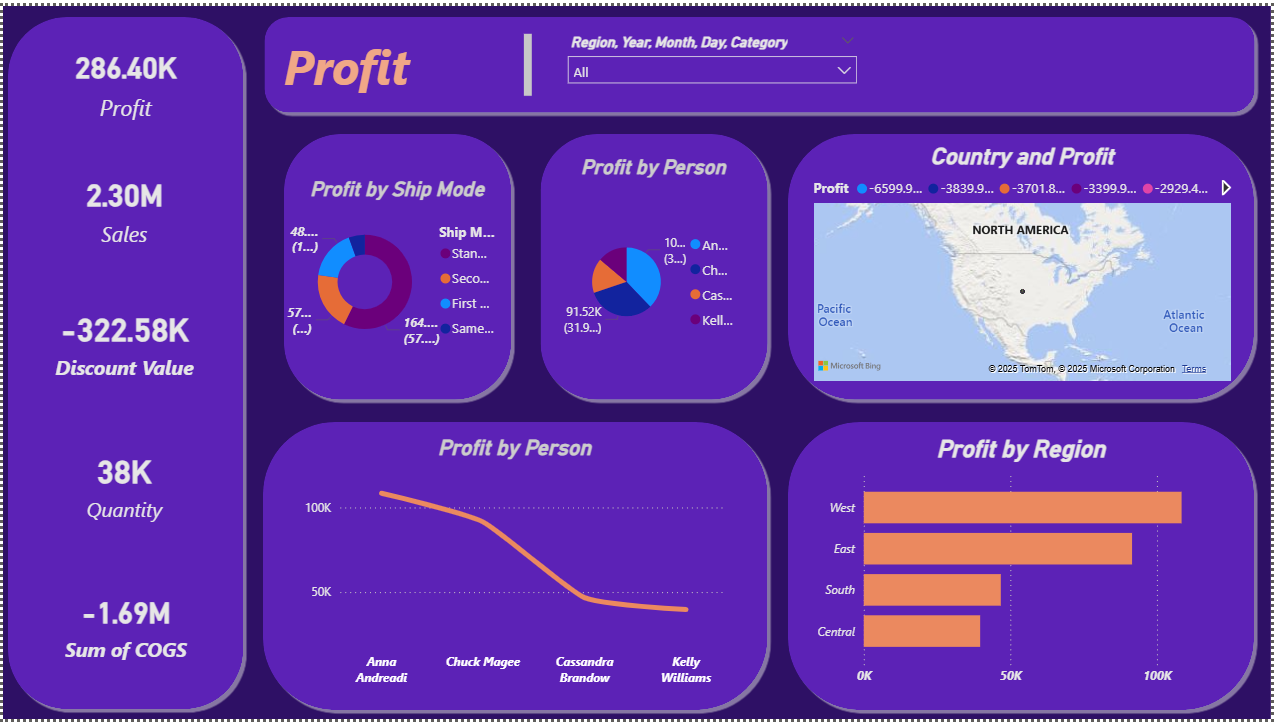

The dashboard page shown, as its layout file describes it:
{"tool":"powerbi","page":{"name":"Page 4","canvas":[1280,720],"ordinal":3},"visuals":[{"type":"shape","box":[0,0,1280.8,720.6],"z":500},{"type":"shape","box":[0,6.5,247.7,709.2],"z":1000},{"type":"shape","box":[259.1,6.5,1010.4,106.9],"z":1001},{"type":"shape","box":[788.6,414.5,480.9,301.2],"z":1002},{"type":"shape","box":[257.5,414.5,519.8,301.2],"z":1003},{"type":"shape","box":[788.6,124.7,480.9,278.5],"z":1004},{"type":"shape","box":[278.5,124.7,239.6,278.5],"z":1005},{"type":"shape","box":[537.6,124.7,239.6,278.5],"z":1006},{"type":"donutChart","title":"Profit by Ship Mode","fields":{"Category":["Orders3.Ship Mode"],"Y":["Orders3.Profit"]},"box":[285,173.3,226.7,187.8],"z":1007},{"type":"pieChart","fields":{"Y":["Orders3.Profit"],"Category":["People2.Person"]},"box":[560.3,150.6,192.7,233.2],"z":1008},{"type":"lineChart","title":"Profit by Person","fields":{"Y":["Orders3.Profit"],"Category":["People2.Person"]},"box":[291.5,434,451.8,260.7],"z":1009},{"type":"clusteredBarChart","title":"Profit by Region","fields":{"Category":["Orders3.Region"],"Y":["Orders3.Profit"]},"box":[812.9,434,432.3,260.7],"z":1010},{"type":"map","fields":{"Category":["Orders3.Country","Orders3.State"],"Series":["Orders3.Profit"]},"box":[813.3,138.3,431.7,245],"z":1011},{"type":"card","fields":{"Values":["Orders3.Profit"]},"box":[3.2,27.5,241.3,97.2],"z":1012},{"type":"card","fields":{"Values":["Orders3.Sales"]},"box":[0,157.1,244.5,90.7],"z":1013},{"type":"card","fields":{"Values":["Orders3.Discount Value"]},"box":[0,293.1,244.5,90.7],"z":1014},{"type":"card","fields":{"Values":["Orders3.Quantity"]},"box":[1.6,434,241.3,95.5],"z":1015},{"type":"card","fields":{"Values":["Orders3.COGS"]},"box":[1.6,565.1,244.5,118.2],"z":1016},{"type":"textbox","box":[278.3,23.3,260,73.3],"z":1017},{"type":"slicer","fields":{"Values":["Orders3.Region","Orders3.Order Date.Variation.Date Hierarchy.Year","Orders3.Order Date.Variation.Date Hierarchy.Month","Orders3.Order Date.Variation.Date Hierarchy.Day","Orders3.Category"]},"box":[560,23.3,311.7,73.3],"z":1018}]}

Visuals, with their boxes in screenshot pixels (x1, y1, x2, y2), scaled from the page's 1280x720 canvas onto the 1274x722 screenshot:
shape: 0/0/1273/721
shape: 0/7/247/718
shape: 258/7/1264/114
shape: 785/416/1264/718
shape: 256/416/774/718
shape: 785/125/1264/404
shape: 277/125/516/404
shape: 535/125/774/404
"Profit by Ship Mode" donutChart: 284/174/509/362
pieChart - Orders3.Profit x People2.Person: 558/151/749/385
"Profit by Person" lineChart: 290/435/740/697
"Profit by Region" clusteredBarChart: 809/435/1239/697
map - Orders3.Country x Orders3.State: 809/139/1239/384
card - Orders3.Profit: 3/28/243/125
card - Orders3.Sales: 0/158/243/248
card - Orders3.Discount Value: 0/294/243/385
card - Orders3.Quantity: 2/435/242/531
card - Orders3.COGS: 2/567/245/685
textbox: 277/23/536/97
slicer - Orders3.Region x Orders3.Order Date.Variation.Date Hierarchy.Year: 557/23/868/97
